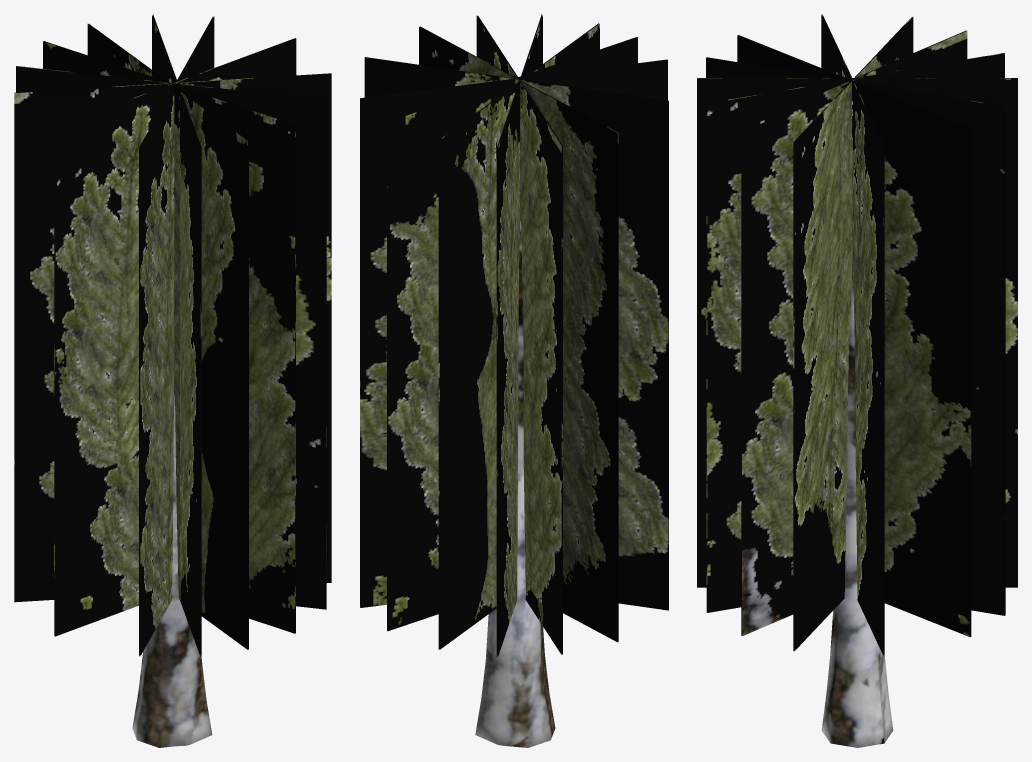
Rendered from tree3.fbx.
3 views of the same model, side by side, from view 1: azimuth 30°, elevation 25°; view 2: azimuth 150°, elevation 25°; view 3: azimuth 270°, elevation 25° (orthographic).
Visible parts, largest first — view 1: polySurface1; view 2: polySurface1; view 3: polySurface1.
Boxes of the visible parts, x1=… form: polySurface1: x1=14, y1=14, x2=331, y2=747; polySurface1: x1=360, y1=14, x2=668, y2=747; polySurface1: x1=697, y1=14, x2=1017, y2=747.
Size of the model in its own units: 2.65 by 6.08 by 2.7.
Materials: 1 (1 with a texture image).
